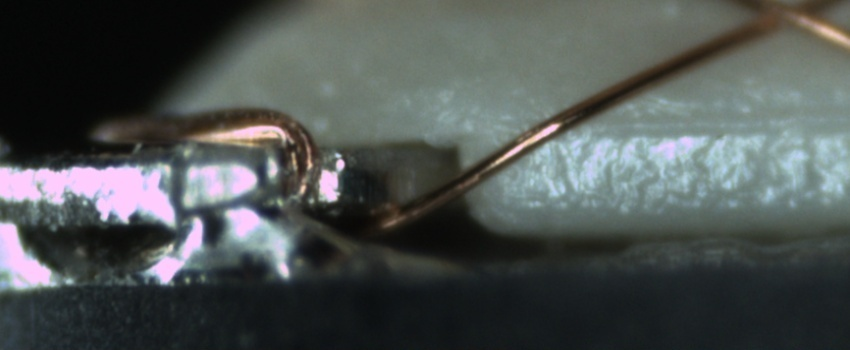CL: (736, 0, 846, 41)
DL: (576, 94, 849, 151)
TE: (90, 106, 328, 197)
